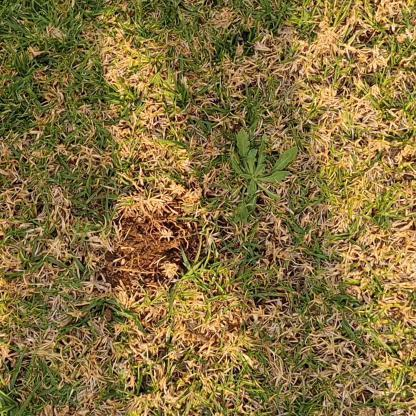Weeds: (233, 129, 299, 223)
